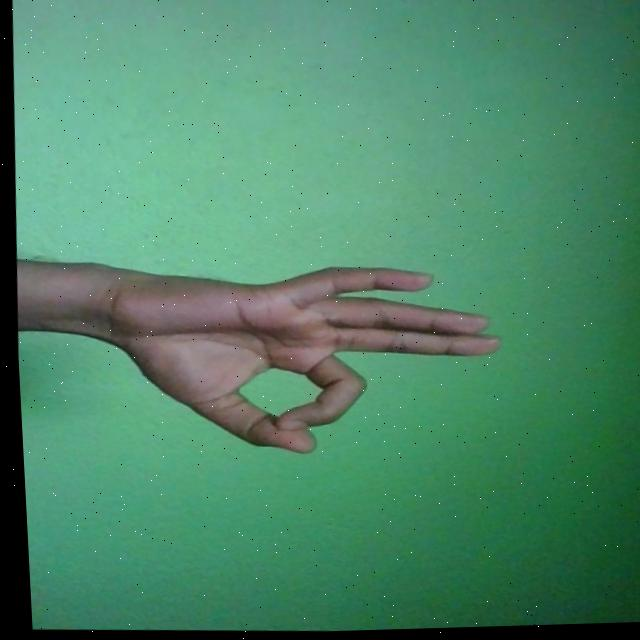Ok: (90, 255, 506, 468)
